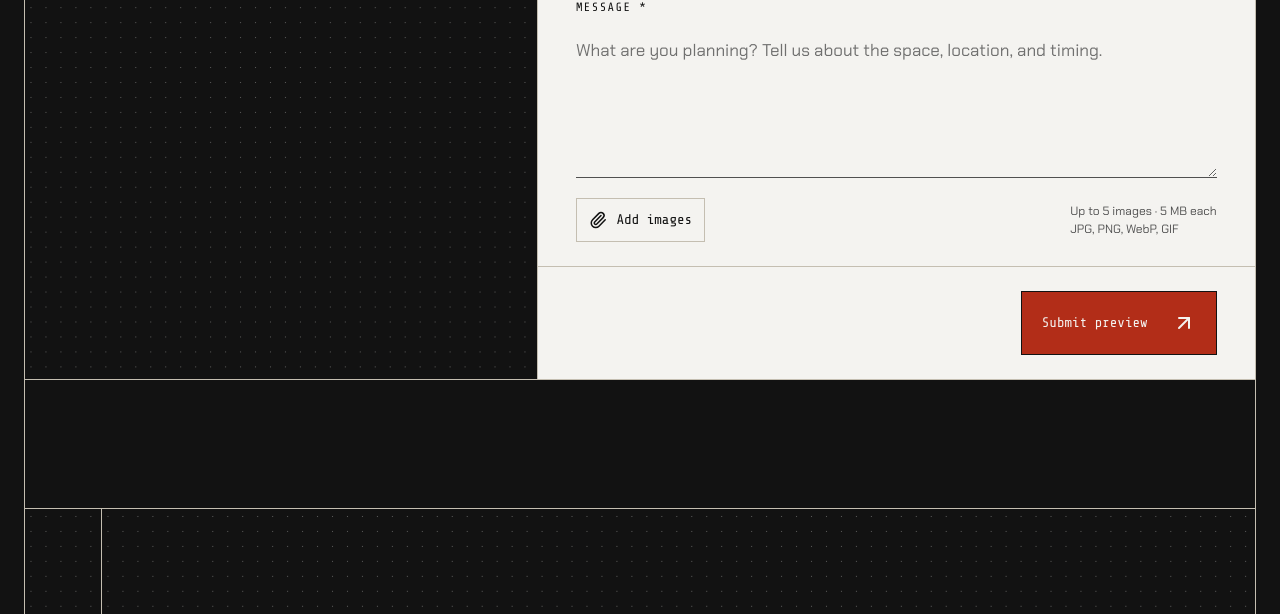
Test case: contact behavior › associates labels/errors, focuses the invalid field, and never submits invalid content
(page scrolled)
Click the button "Submit preview": (1119, 323) x1=1021 y1=291 x2=1217 y2=355
(page scrolled)
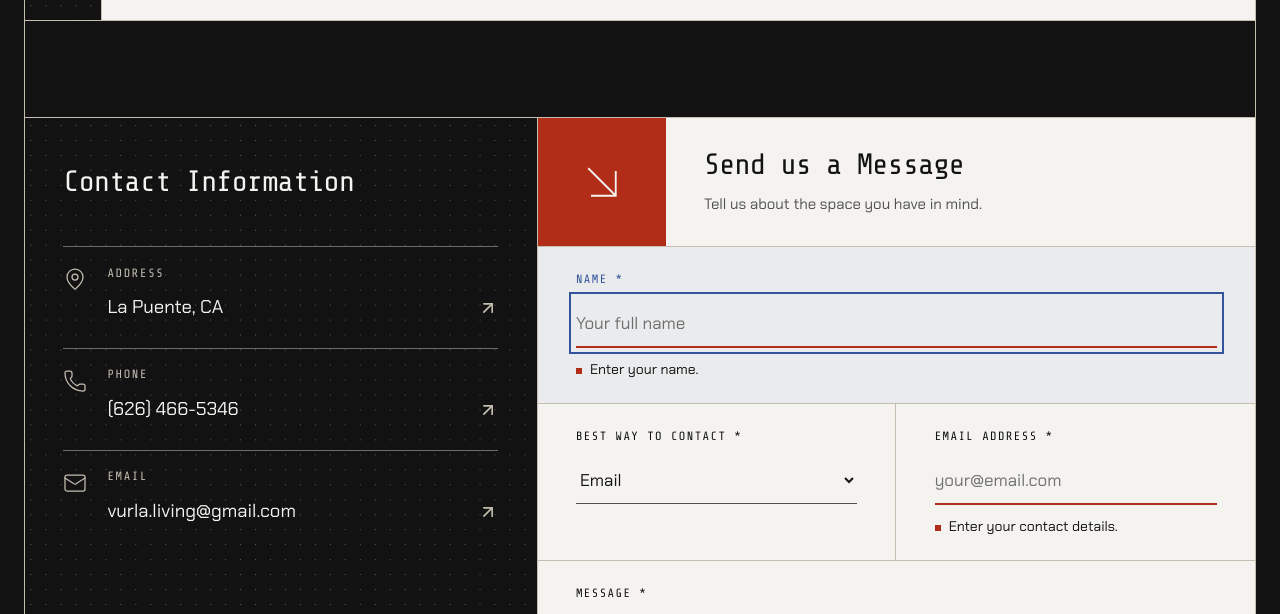
Check: the text "Enter your name." is shown, box x1=590 y1=360 x2=698 y2=378
